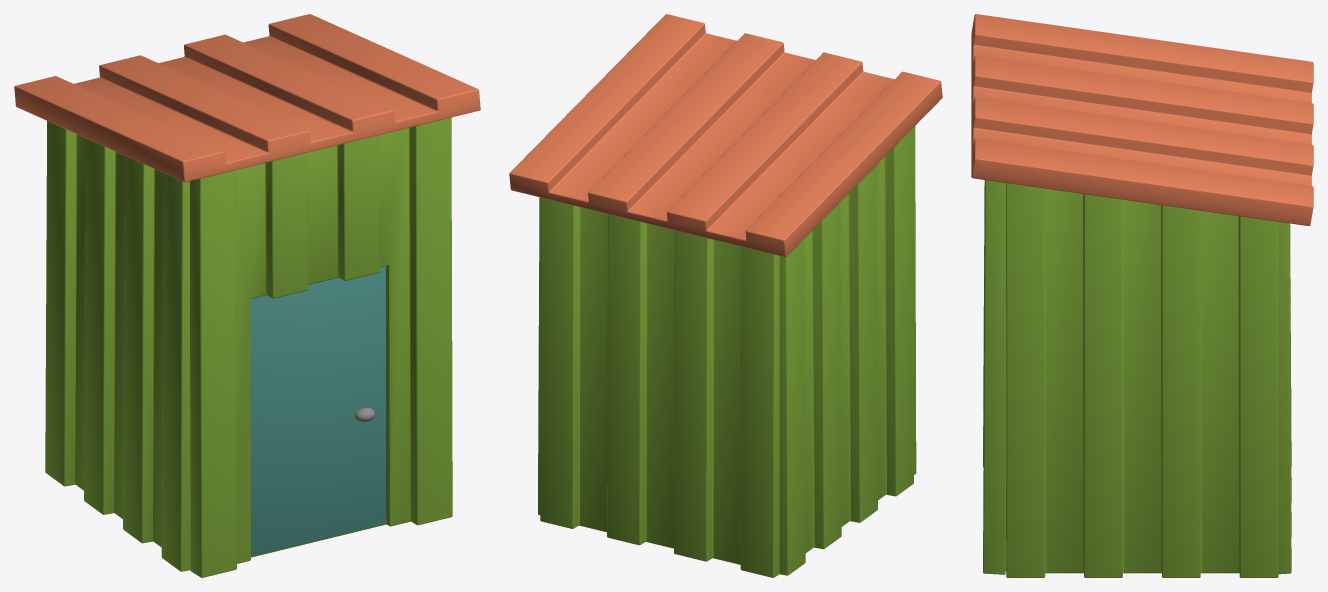
File: Cottage.fbx
3 renders of one model, left to right at view 1: azimuth 30°, elevation 25°; view 2: azimuth 150°, elevation 25°; view 3: azimuth 270°, elevation 25°, orthographic. The views are drawn at different scales.
Parts seen in each view (by area): view 1: Cube.008, Cube.001; view 2: Cube.008; view 3: Cube.008.
Part boxes in pixels (bbox=[...]): Cube.008: bbox=[14, 14, 480, 577]; Cube.001: bbox=[250, 266, 385, 556]; Cube.008: bbox=[509, 14, 942, 577]; Cube.008: bbox=[971, 14, 1313, 577].
Bounding box in the file's own units: 249 × 343 × 249.
